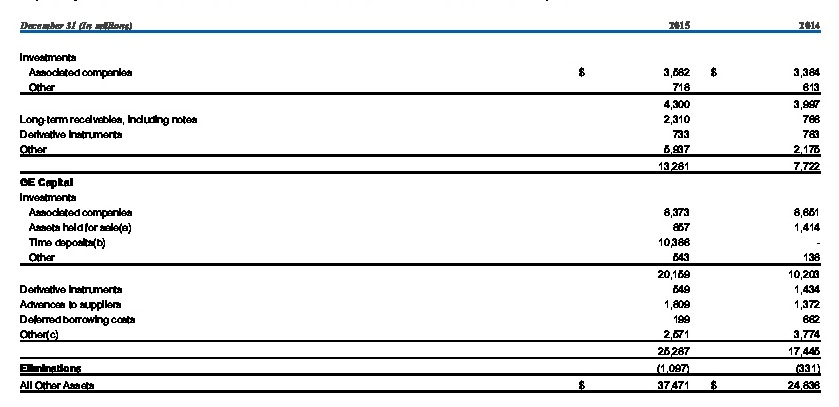table: (0, 0, 839, 407)
